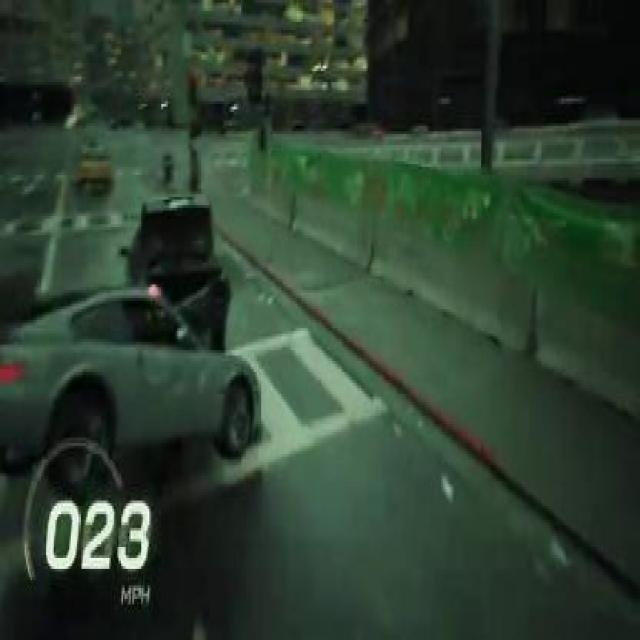accident: (0, 180, 266, 512)
